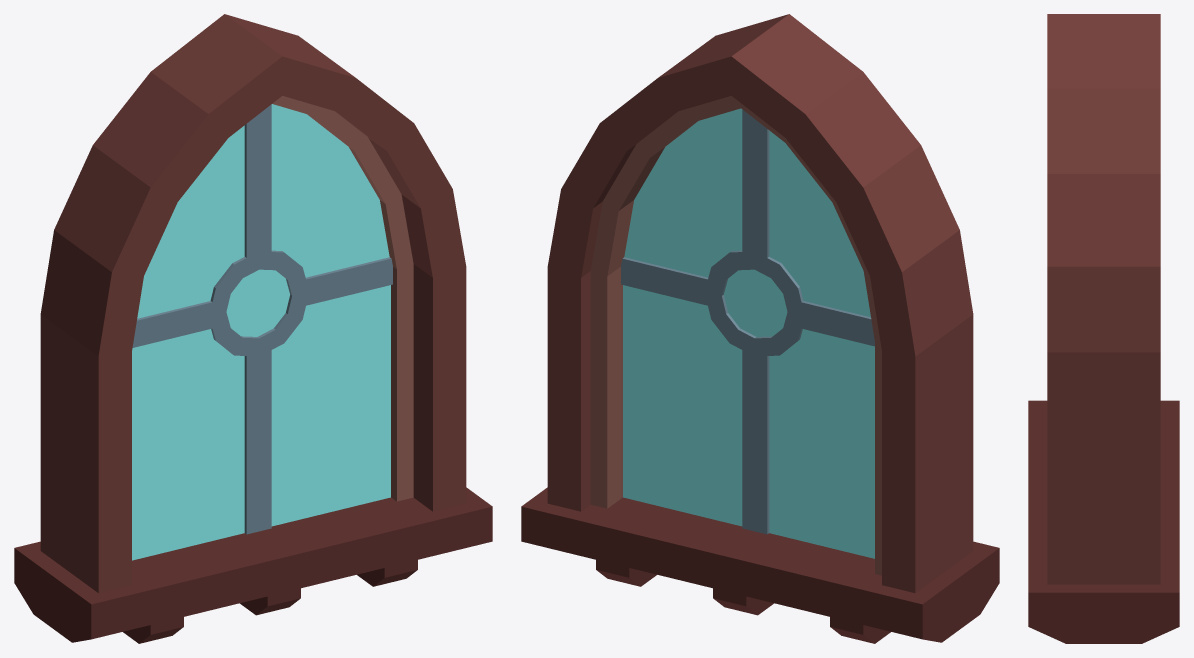
Rendered from Window_3.fbx.
The picture shows the model from 3 angles, left to right: view 1: azimuth 30°, elevation 25°; view 2: azimuth 150°, elevation 25°; view 3: azimuth 270°, elevation 25°; orthographic projection.
Parts seen in each view (by area): view 1: Window_3; view 2: Window_3; view 3: Window_3.
Boxes of the visible parts, <box> form: Window_3: <box>14,14,492,643</box>; Window_3: <box>521,14,999,643</box>; Window_3: <box>1028,14,1179,643</box>.
Size of the model in its own units: 1.2 by 0.4 by 1.61.
